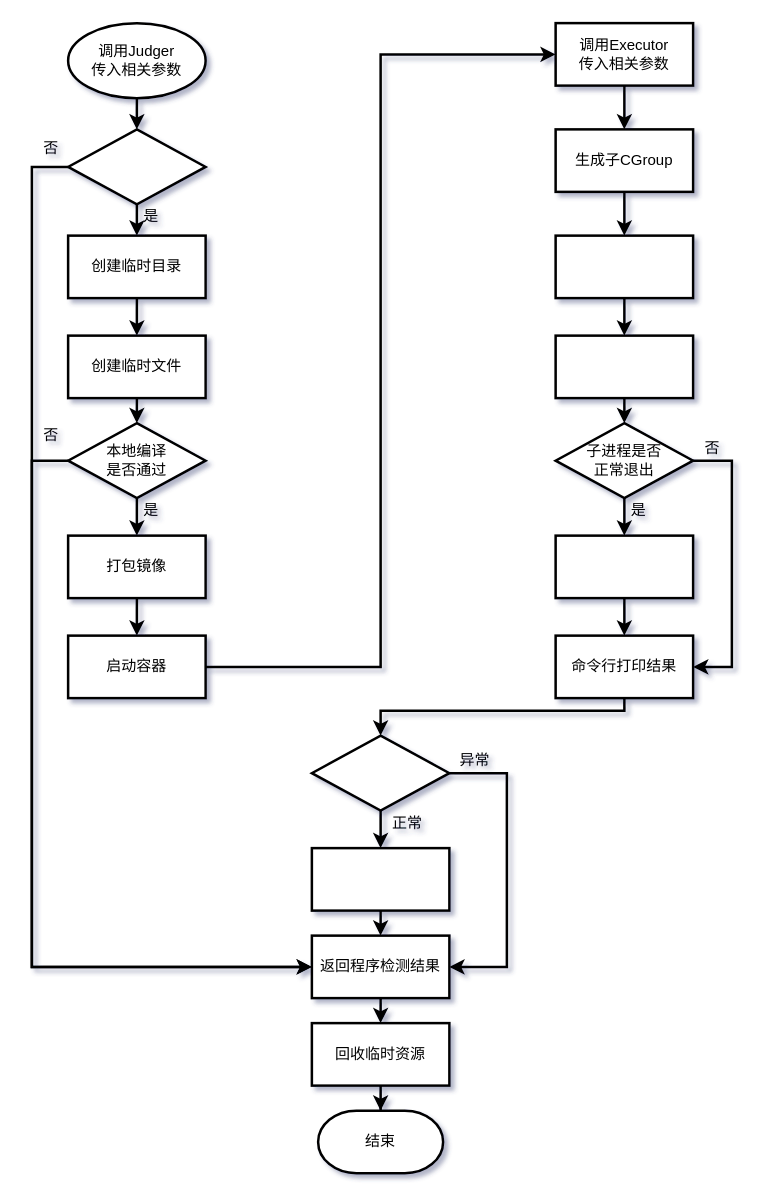
This 771x1203 diagram has some shape labels left out. Each missing label, with the box of its shape:
判断输出结果正误: (310, 846, 450, 911)
判断运行 状态码: (310, 734, 450, 811)
启动子进程 子进程纳入Cgroup: (554, 334, 694, 399)
启动计时器: (554, 234, 694, 299)
是否传入 必要参数: (66, 128, 206, 205)
获取运行时间、 运行内存: (554, 534, 694, 599)
